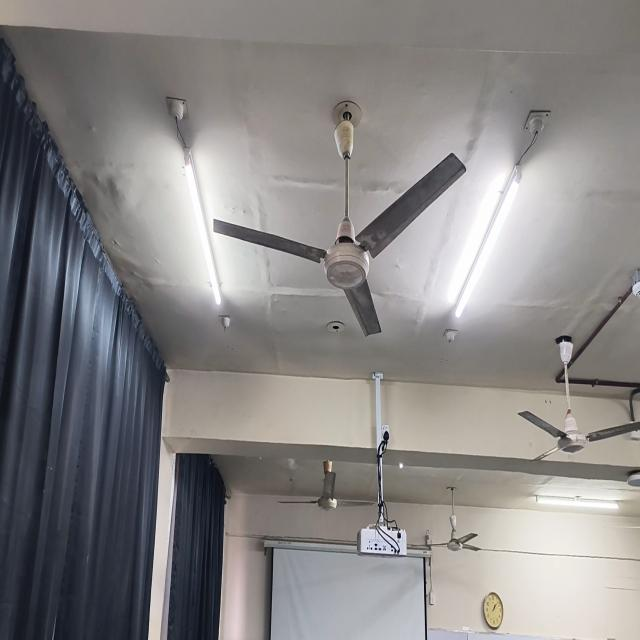Light: (454, 111, 549, 318), (166, 97, 222, 306), (535, 495, 618, 509)
Projector: (358, 526, 406, 556)
